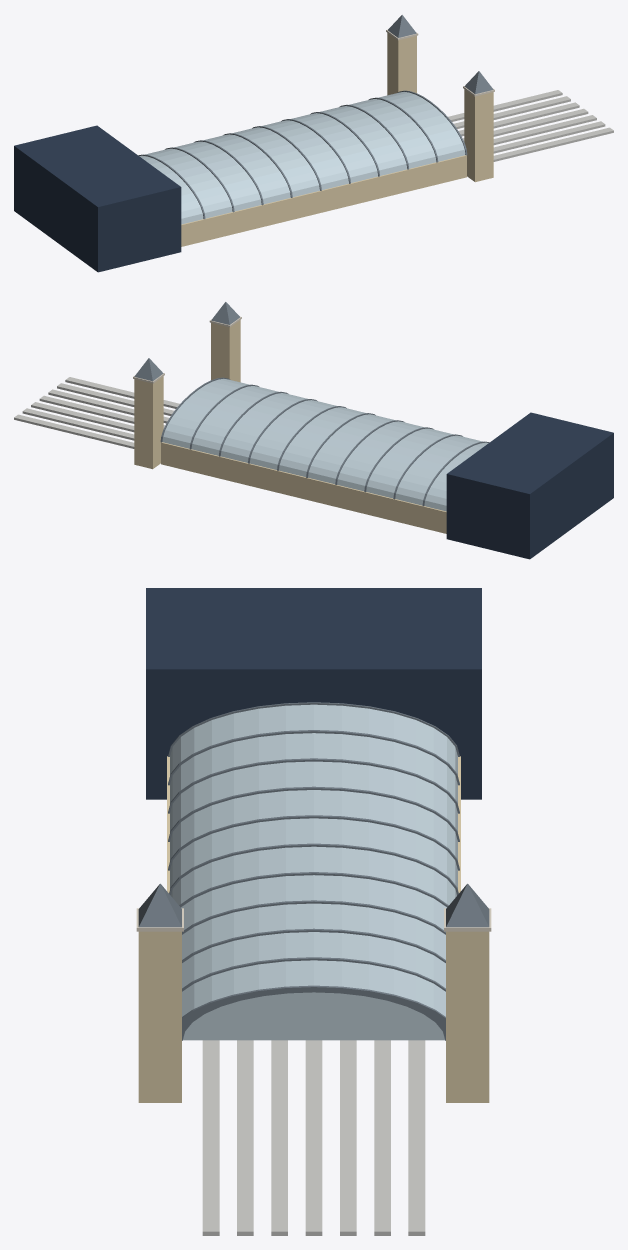
File: terminal_cannon-street.glb
The picture shows the model from 3 angles, top to bottom: view 1: azimuth 30°, elevation 25°; view 2: azimuth 150°, elevation 25°; view 3: azimuth 270°, elevation 25°; orthographic projection. The views are drawn at different scales.
Visible parts, largest first — view 1: cannon-street; view 2: cannon-street; view 3: cannon-street.
Boxes of the visible parts, x1=… form: cannon-street: x1=14, y1=15, x2=613, y2=272; cannon-street: x1=14, y1=302, x2=613, y2=559; cannon-street: x1=136, y1=588, x2=491, y2=1235.
Bounding box in the file's own units: 255 × 48.4 × 73.8.
